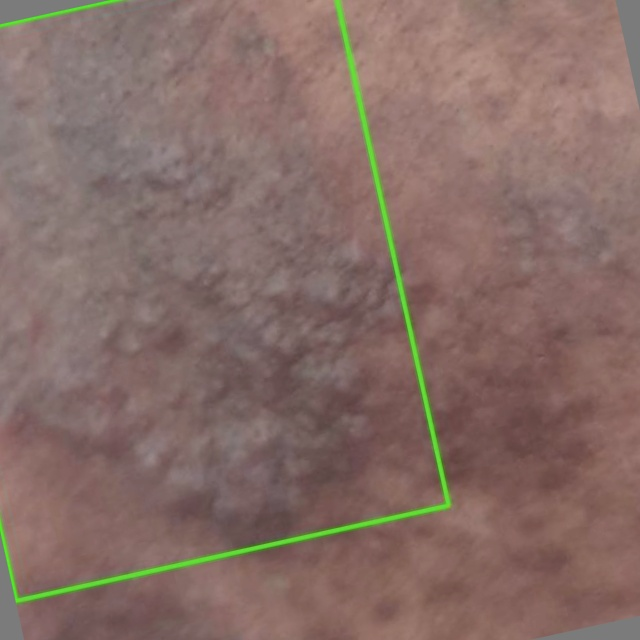Tinea Corporis: (0, 0, 448, 600)
